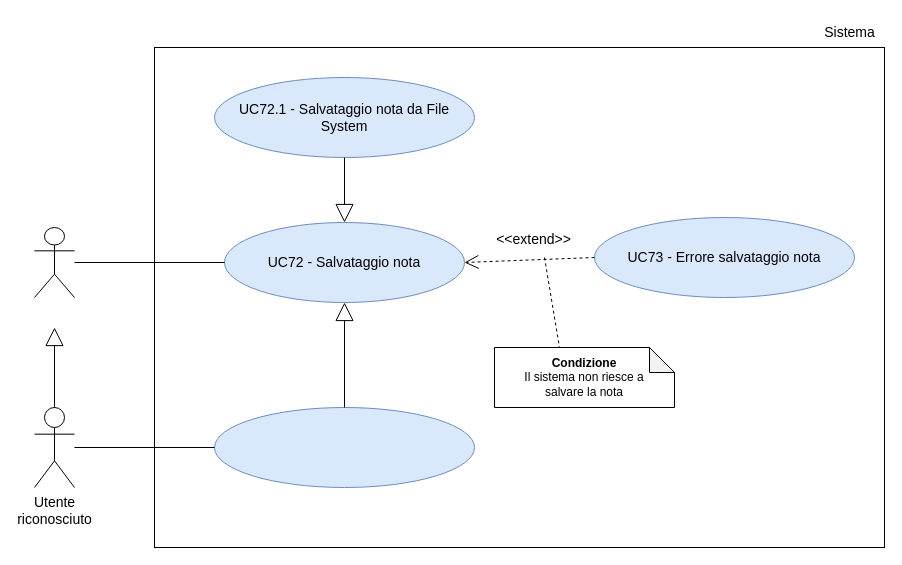
The diagram is 902 pixels wide and 565 high, and some of its shapes have lost their labels. The centre of each missing label's shape, as x and y in pixels:
"UC72.2 - Salvataggio nota da database" belongs at pixel 344 447.
"Utente" belongs at pixel 54 262.
